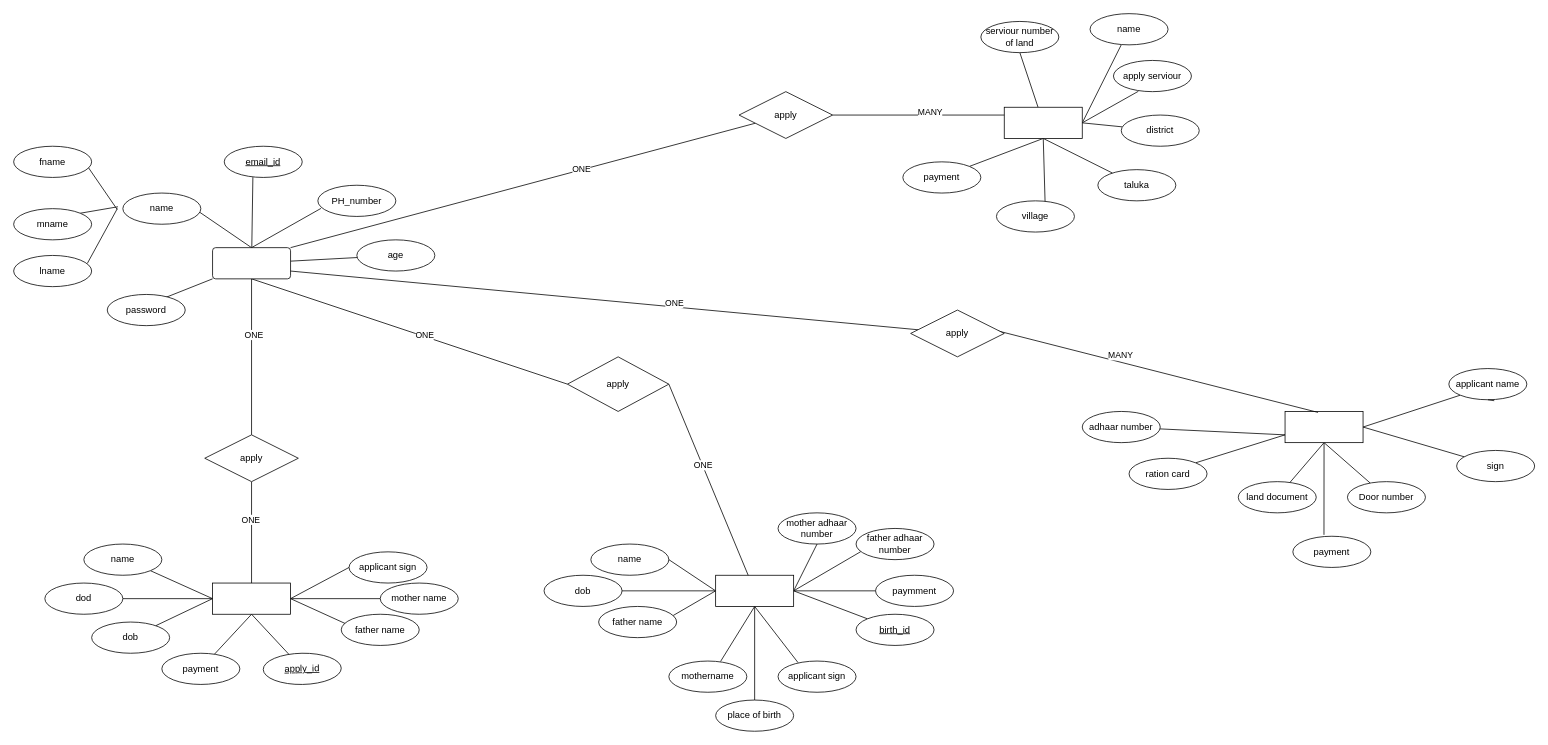
Image size: 1548x745. Some labels were removed from this diagram. The shapes that lost their labels are listed below. From the top down, each one's centre as x and y in pixels, then its label:
At [1042,122]: "land measurement".
At [251,263]: "USER".
At [1323,427]: "Electricity".
At [251,598]: "DEATH".
At [754,590]: "Birth".
